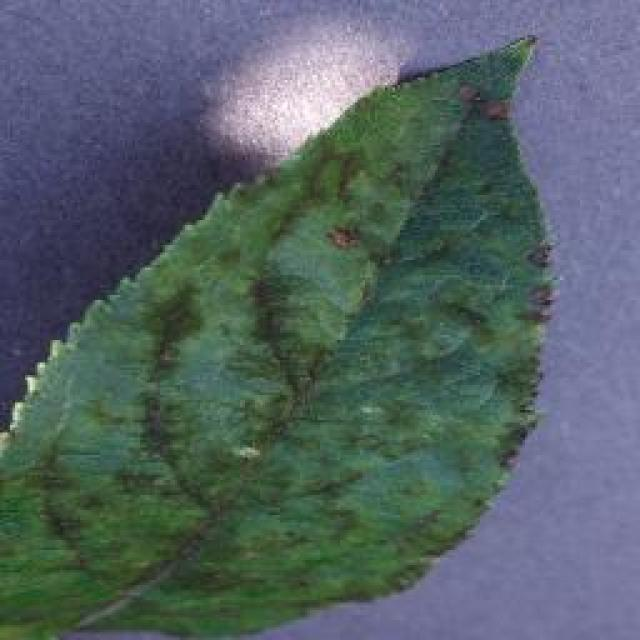apple scab disease: (0, 28, 558, 638)
